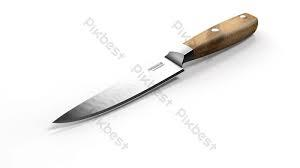Knife: (51, 11, 258, 124)
